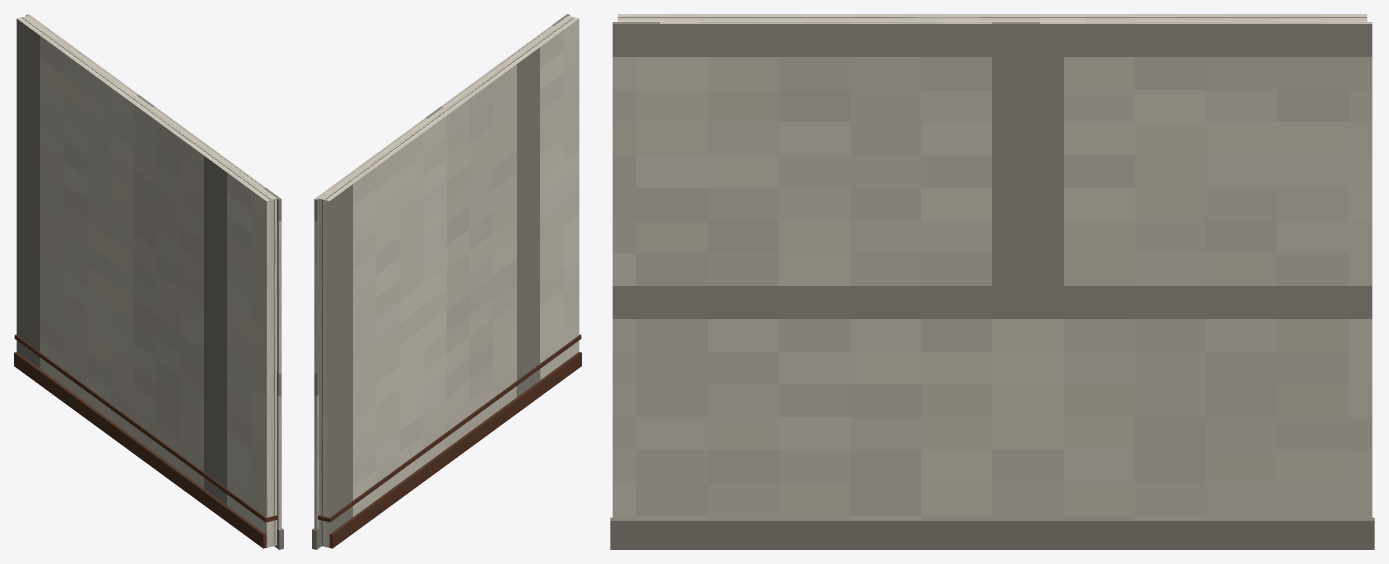
Rendered from cityhall_rear_r.glb.
The picture shows the model from 3 angles, left to right: view 1: azimuth 30°, elevation 25°; view 2: azimuth 150°, elevation 25°; view 3: azimuth 270°, elevation 25°; orthographic projection. The views are drawn at different scales.
Parts seen in each view (by area): view 1: Box1, Box2, Box3, Box6, Box5; view 2: Box1, Box2, Box3, Box6, Box5; view 3: Box3, Box4, Box1.
Part boxes in pixels (x1=…): Box1: x1=16, y1=16, x2=276, y2=547; Box2: x1=14, y1=352, x2=266, y2=548; Box3: x1=26, y1=14, x2=281, y2=529; Box6: x1=14, y1=334, x2=277, y2=522; Box5: x1=16, y1=341, x2=276, y2=546; Box1: x1=319, y1=16, x2=579, y2=547; Box2: x1=329, y1=352, x2=581, y2=548; Box3: x1=314, y1=14, x2=569, y2=529; Box6: x1=318, y1=334, x2=581, y2=522; Box5: x1=319, y1=341, x2=579, y2=547; Box3: x1=612, y1=22, x2=1372, y2=519; Box4: x1=610, y1=517, x2=1374, y2=549; Box1: x1=617, y1=14, x2=1367, y2=21.
Size of the model in its own units: 0.25 by 4.64 by 6.12.
4 materials, 2 textured.
